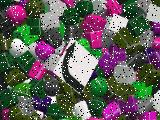Right: (53, 37, 99, 95)
